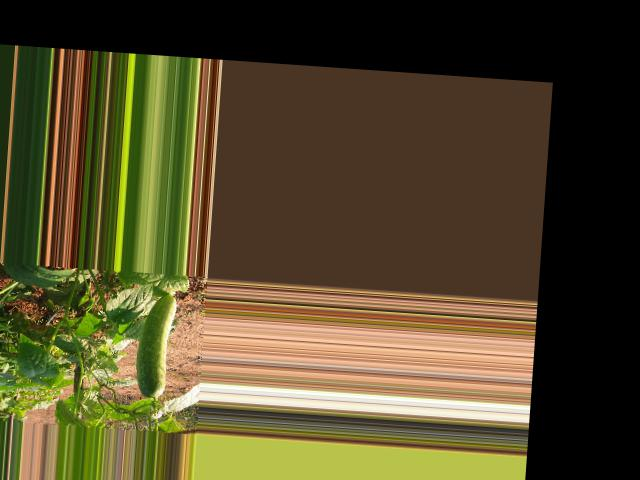cucumber: (134, 292, 177, 398)
